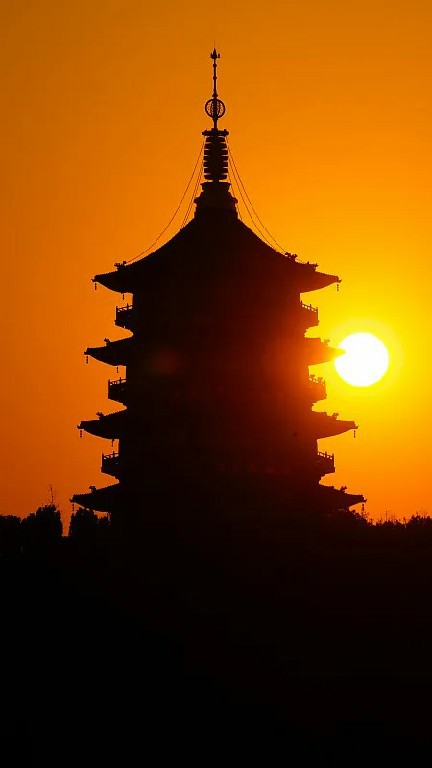Leifeng: (66, 44, 371, 545)
